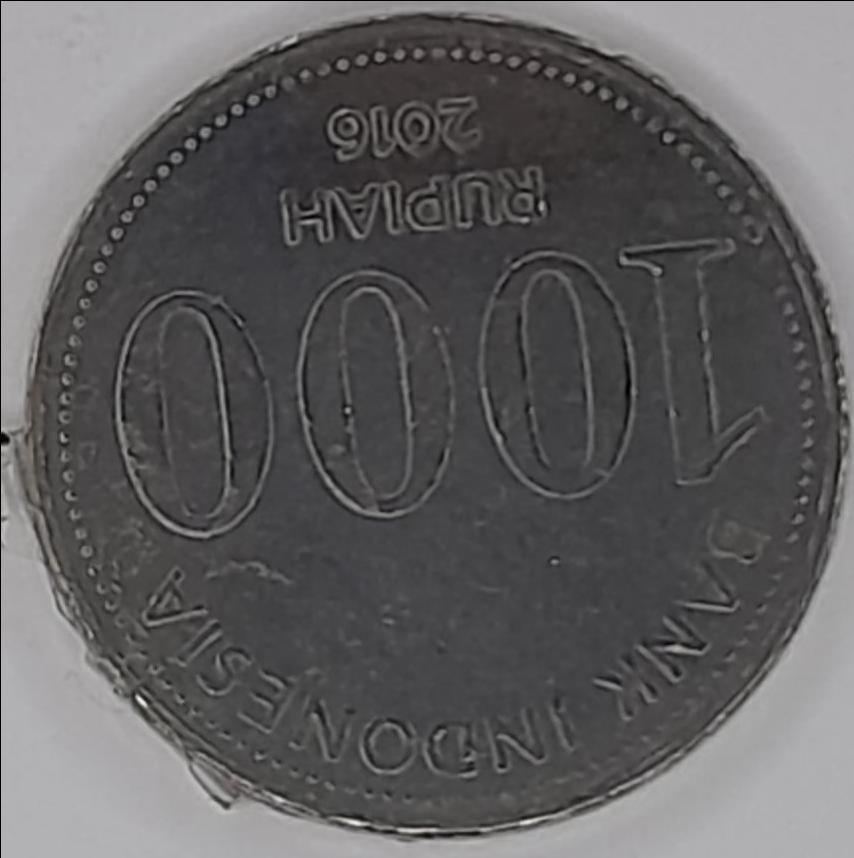coin_1000_e2016: (15, 17, 843, 858)
